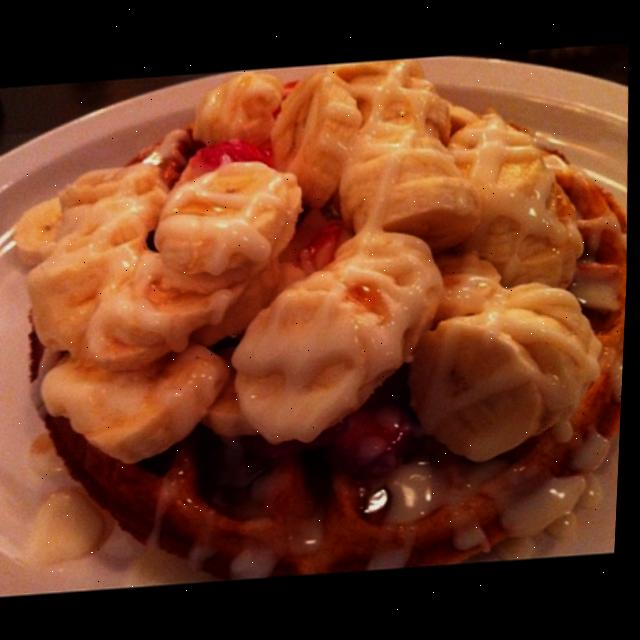炸货点心: (0, 12, 639, 603)
蛋糕甜品: (0, 12, 639, 603)
